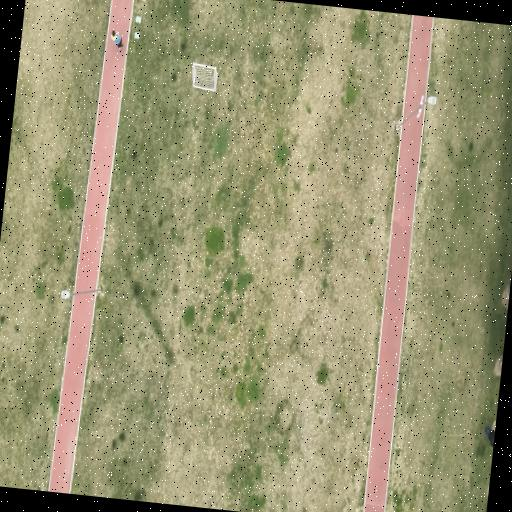person: (483, 425, 494, 446), (111, 30, 121, 48)
